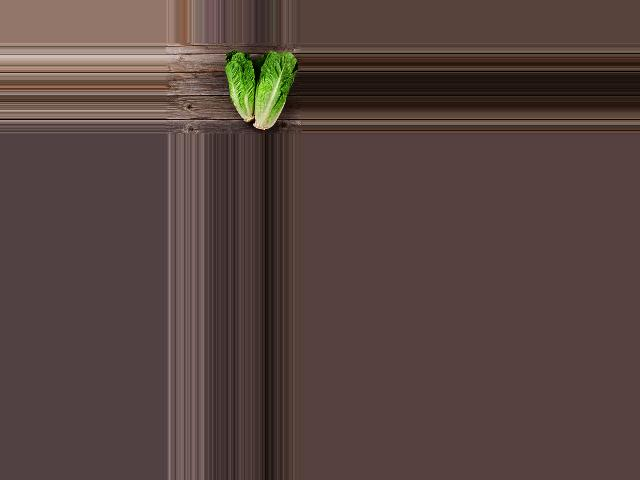lettuce: (252, 48, 299, 133)
